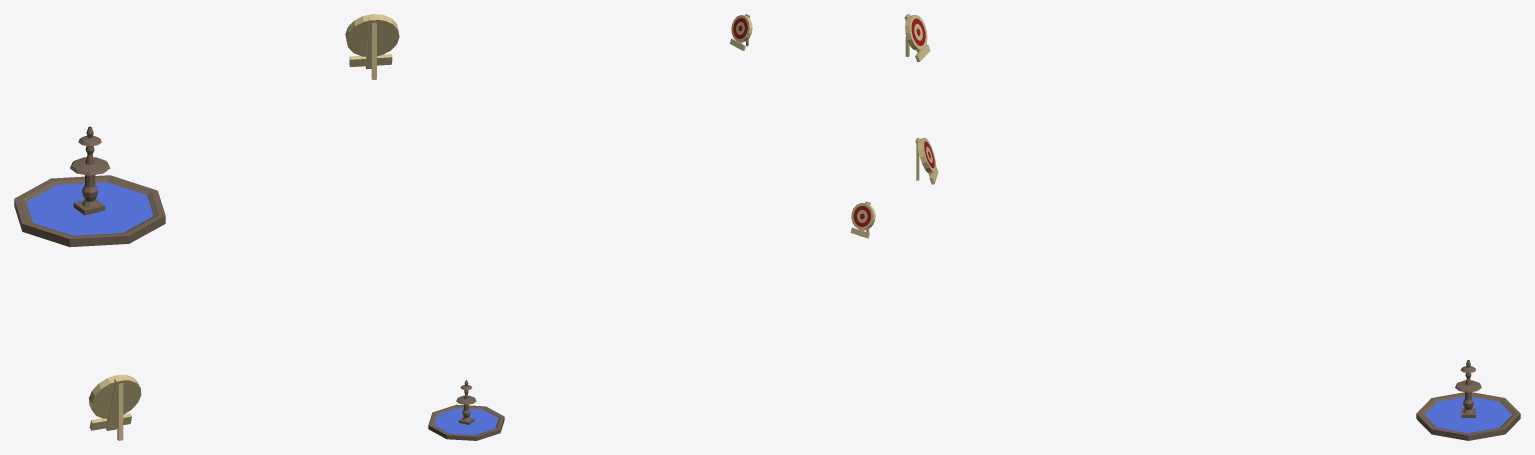
Rendered from accessories.glb.
The picture shows the model from 3 angles, left to right: view 1: azimuth 30°, elevation 25°; view 2: azimuth 150°, elevation 25°; view 3: azimuth 270°, elevation 25°; orthographic projection. The views are drawn at different scales.
Visible parts, largest first — view 1: Fountain_primitive0, Fountain_primitive1, ArcheryButt1.001, ArcheryButt2.001; view 2: Fountain_primitive0, Fountain_primitive1, ArcheryButt2.001, ArcheryButt1.001; view 3: Fountain_primitive0, Fountain_primitive1, ArcheryButt1.001, ArcheryButt2.001.
Part boxes in pixels (bbox=[...]): Fountain_primitive0: bbox=[14, 126, 165, 247]; Fountain_primitive1: bbox=[26, 182, 153, 235]; ArcheryButt1.001: bbox=[345, 14, 399, 79]; ArcheryButt2.001: bbox=[88, 374, 141, 440]; Fountain_primitive0: bbox=[428, 380, 504, 440]; Fountain_primitive1: bbox=[434, 408, 498, 435]; ArcheryButt2.001: bbox=[850, 201, 875, 238]; ArcheryButt1.001: bbox=[729, 14, 752, 50]; Fountain_primitive0: bbox=[1416, 360, 1520, 440]; Fountain_primitive1: bbox=[1425, 397, 1511, 433]; ArcheryButt1.001: bbox=[904, 14, 930, 62]; ArcheryButt2.001: bbox=[915, 137, 938, 184].
Bounding box in the file's own units: 3.82 × 4.16 × 6.47.
